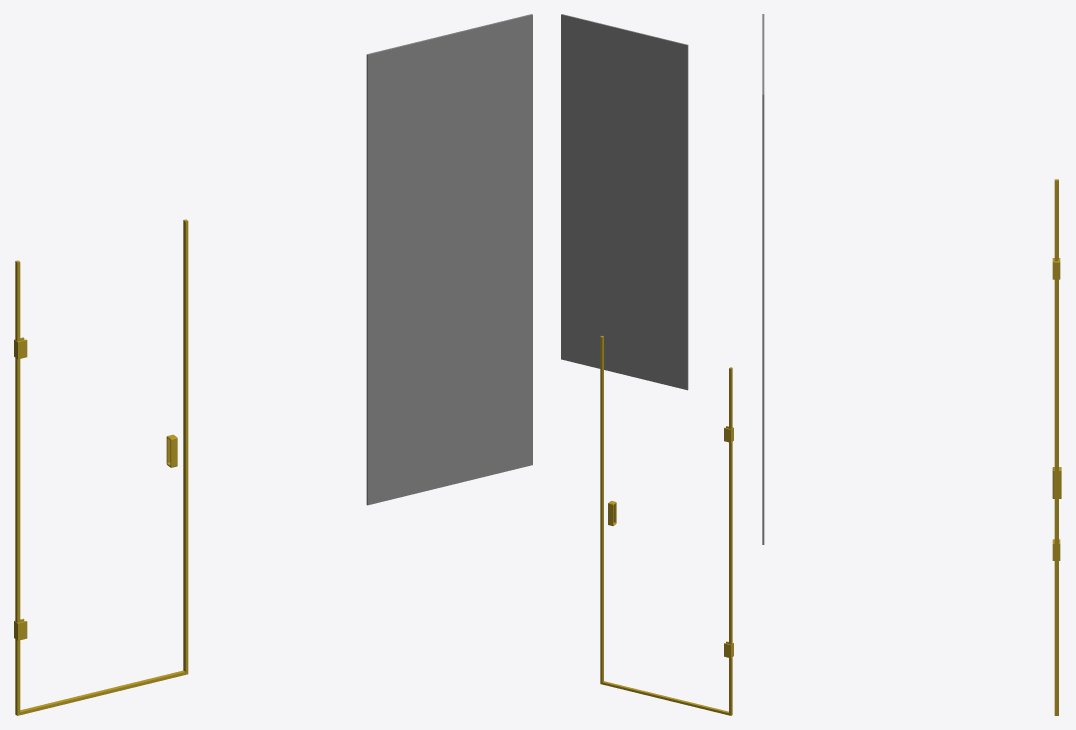
Rendered from ShowerDoor_2394e31c.obj.
The picture shows the model from 3 angles, left to right: view 1: azimuth 30°, elevation 25°; view 2: azimuth 150°, elevation 25°; view 3: azimuth 270°, elevation 25°; orthographic projection. The views are drawn at different scales.
Parts seen in each view (by area): view 1: FP409:polySurface347_b9a445ae, ShowerDoorMesh_0f116d98; view 2: FP409:polySurface347_b9a445ae, ShowerDoorMesh_0f116d98; view 3: ShowerDoorMesh_0f116d98, FP409:polySurface347_b9a445ae.
Part boxes in pixels (<box>): FP409:polySurface347_b9a445ae: <box>366,14,532,505</box>; ShowerDoorMesh_0f116d98: <box>14,219,188,715</box>; FP409:polySurface347_b9a445ae: <box>561,14,688,390</box>; ShowerDoorMesh_0f116d98: <box>600,336,733,715</box>; ShowerDoorMesh_0f116d98: <box>1052,179,1061,715</box>; FP409:polySurface347_b9a445ae: <box>762,14,764,544</box>.
Size of the model in its own units: 1.7 by 3.15 by 1.19.
